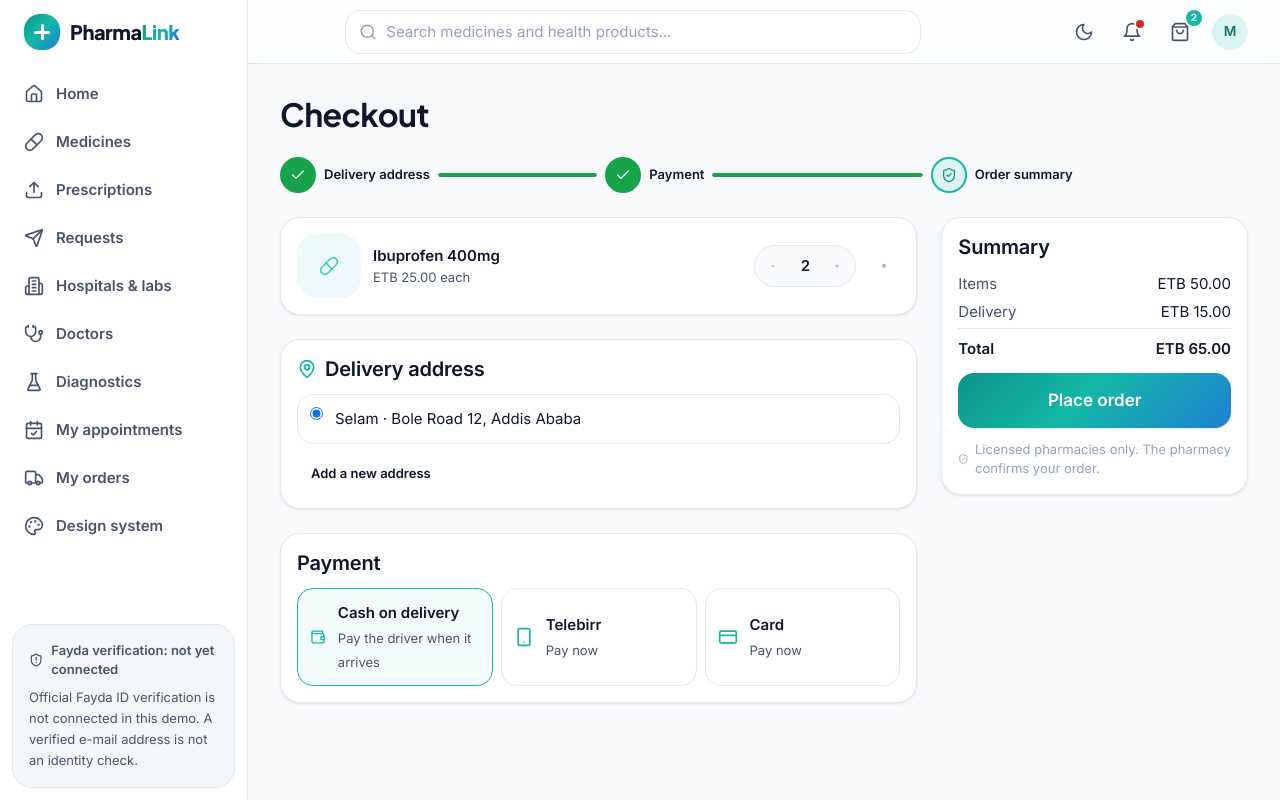
Test case: checkout (Work 100) › changes quantities and removes items through the API
expect the text "Ibuprofen 400mg" is shown: met, box [373,246,500,265]
Click the button named "Increase quantity": (837,266) [821,248,853,284]
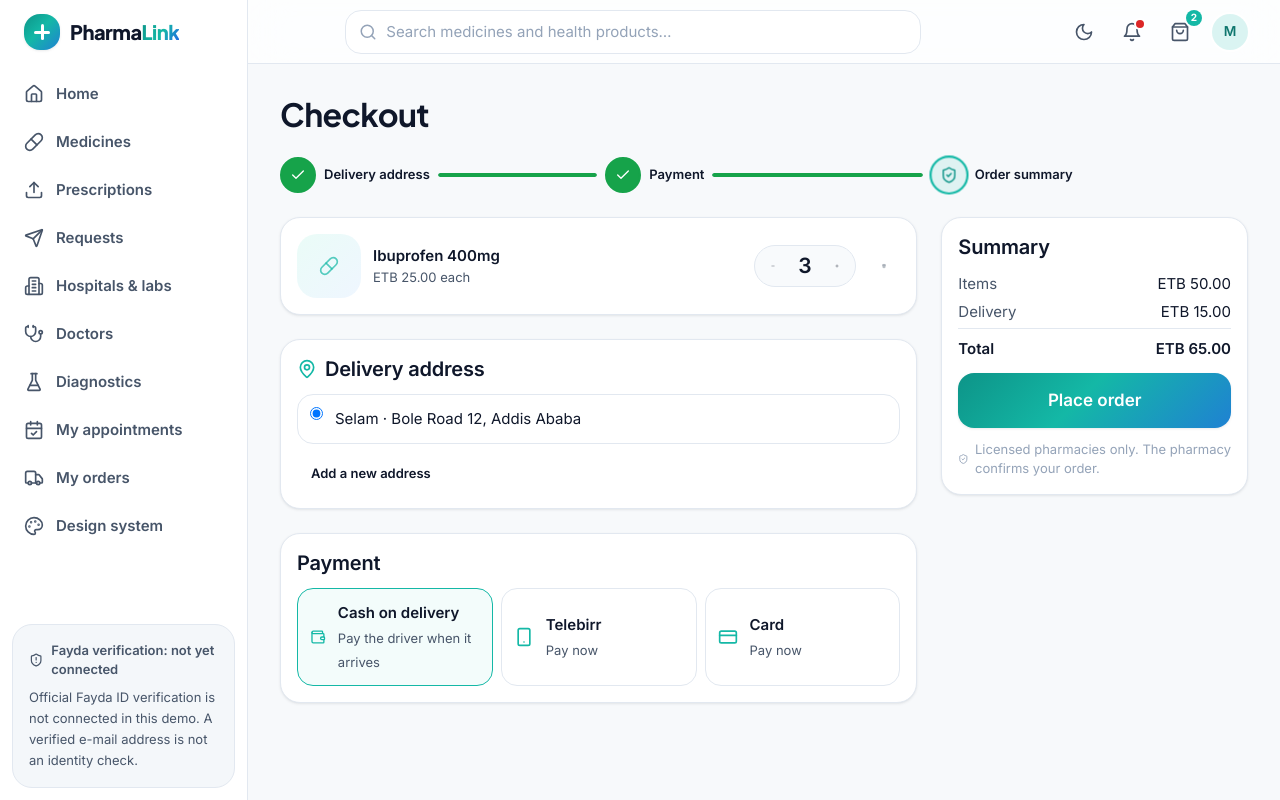
Click the button named "Remove": (884,266) [868,248,900,284]
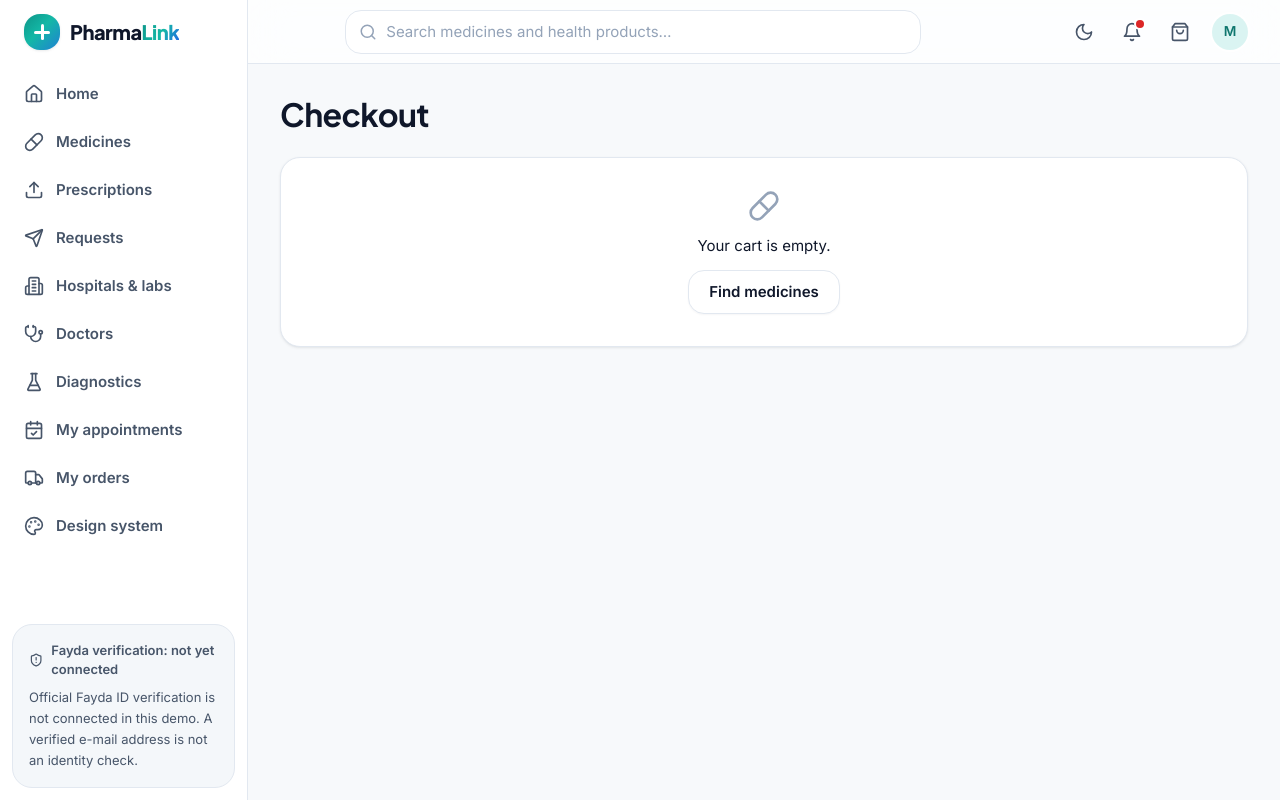
expect the text "Your cart is empty." is shown: met, box [698,234,830,258]
